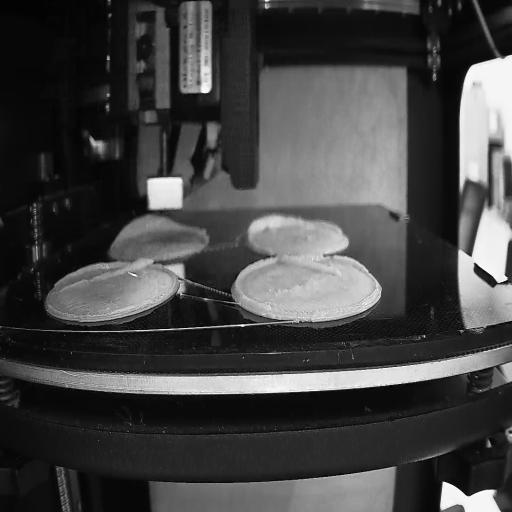over_extrusion: (61, 257, 155, 292), (110, 214, 209, 246), (234, 256, 277, 311), (244, 211, 308, 246), (279, 254, 367, 277)
